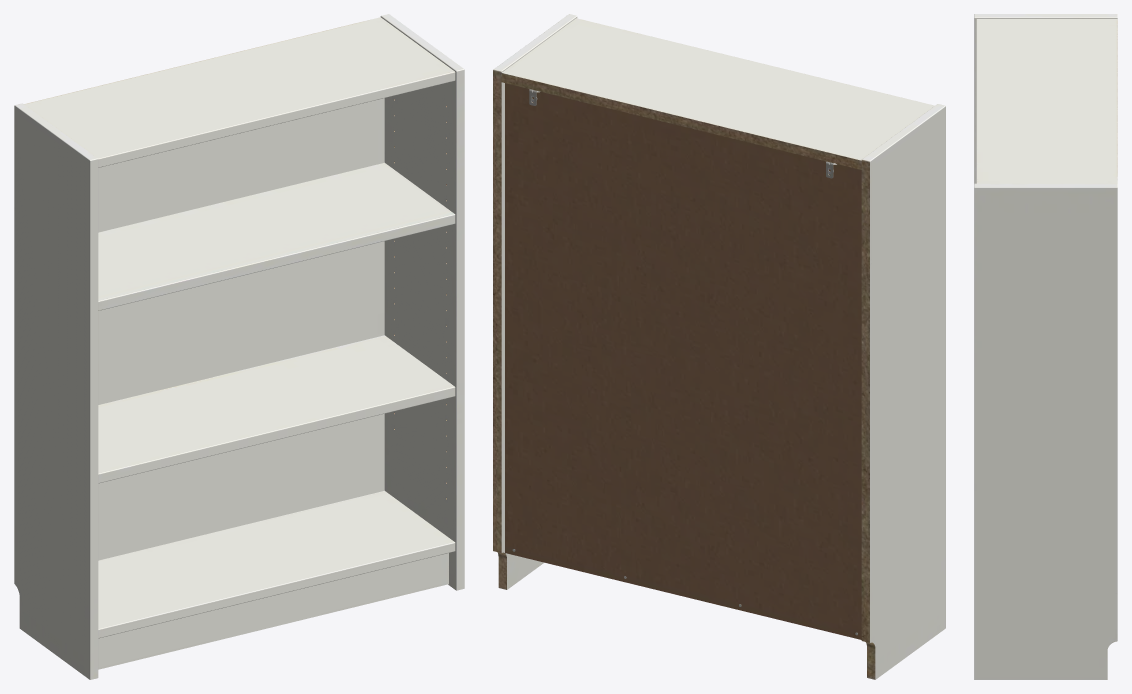
The picture shows the model from 3 angles, left to right: view 1: azimuth 30°, elevation 25°; view 2: azimuth 150°, elevation 25°; view 3: azimuth 270°, elevation 25°; orthographic projection. The views are drawn at different scales.
Visible parts, largest first — view 1: GLTF; view 2: GLTF; view 3: GLTF.
Boxes of the visible parts, x1,y1,x2,y2 form: GLTF: (14, 14, 464, 679); GLTF: (493, 14, 945, 679); GLTF: (974, 14, 1117, 679).
Bounding box in the file's own units: 0.8 × 1.06 × 0.2801.
Materials: 1 (1 with a texture image).
